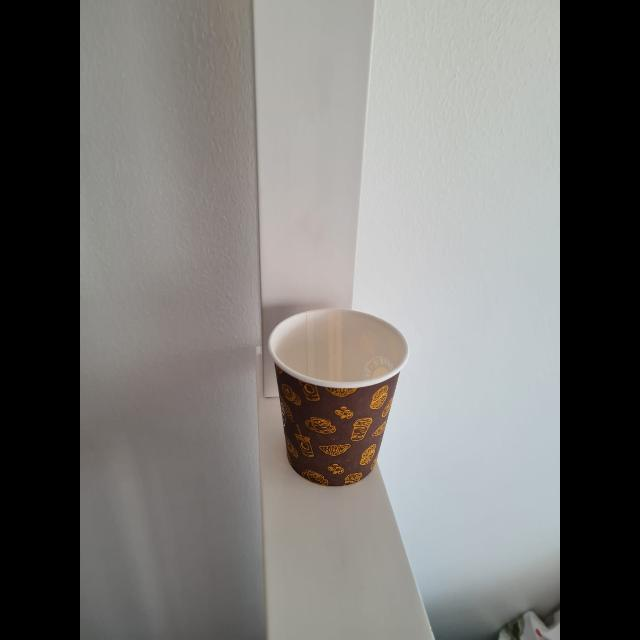trash: (264, 303, 416, 483)
